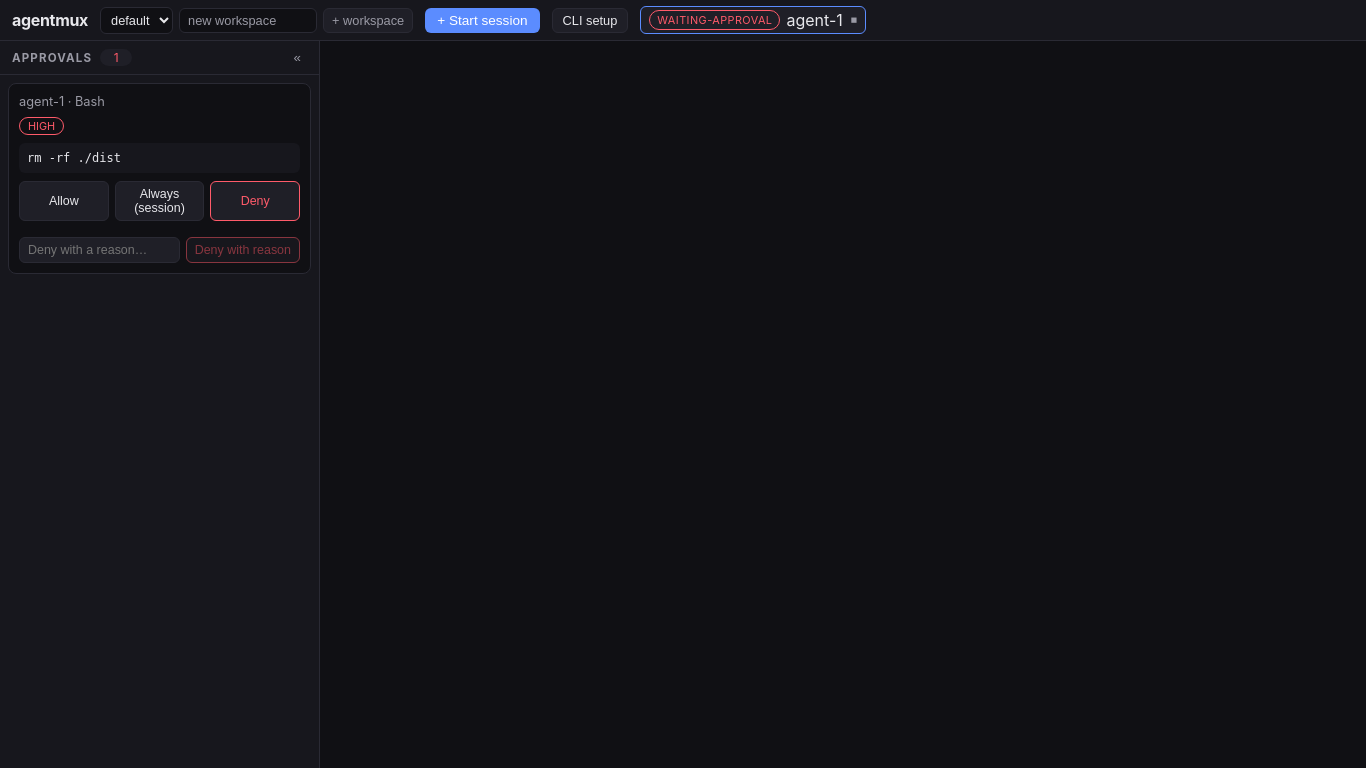
Test: Shell › shows the full command on the approval card and clears it on deny
expect the text "rm -rf ./dist" is shown: met, box [19,143,300,173]
expect the text with test id "pending-count" reads "1": met, box [114,50,119,65]
Click the button with test id "deny-btn" at (255, 201), box [210,181,300,221]
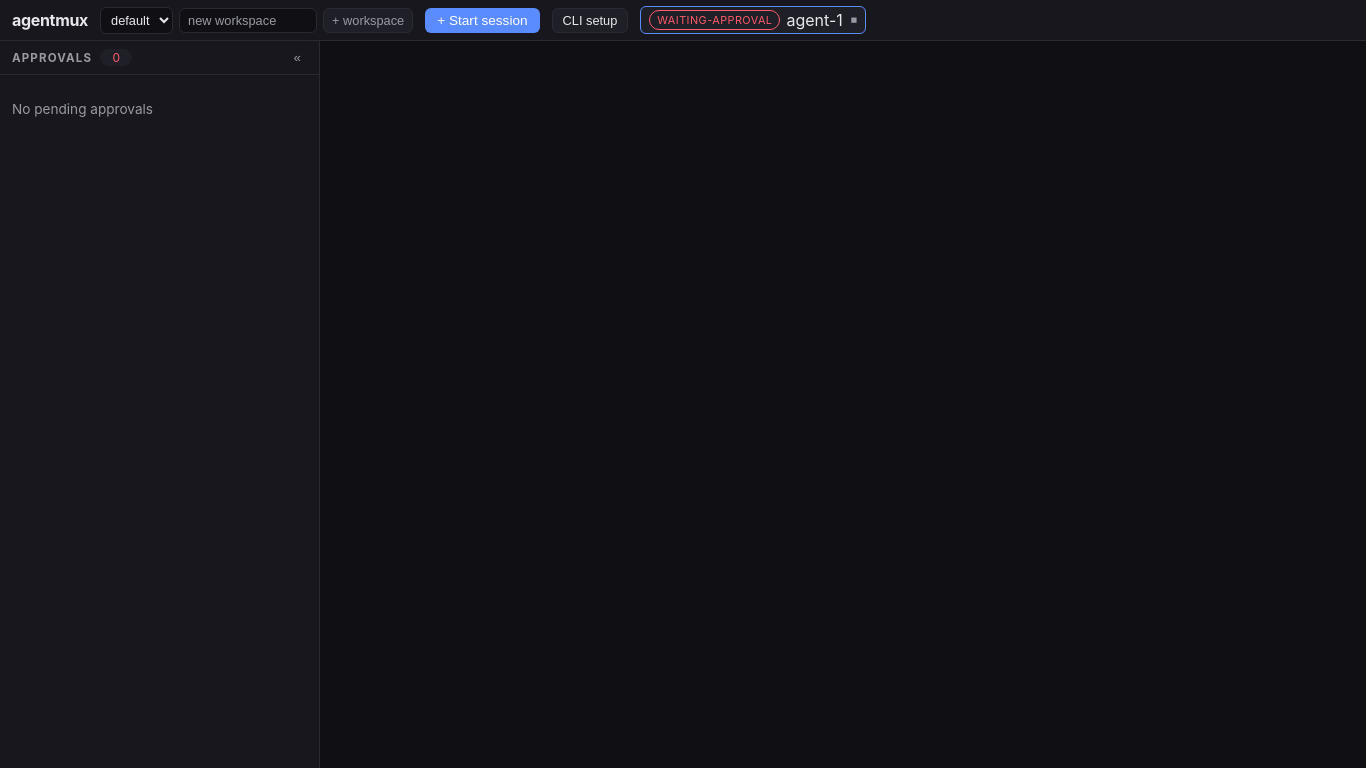
expect the list item with test id "approval-card" is gone: met
expect the text with test id "pending-count" reads "0": met, box [112,50,120,65]
